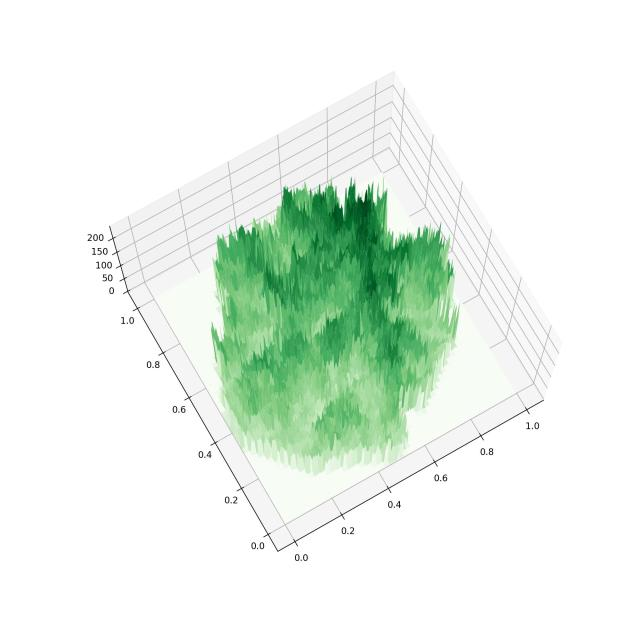spruce: (52, 49, 592, 600)
